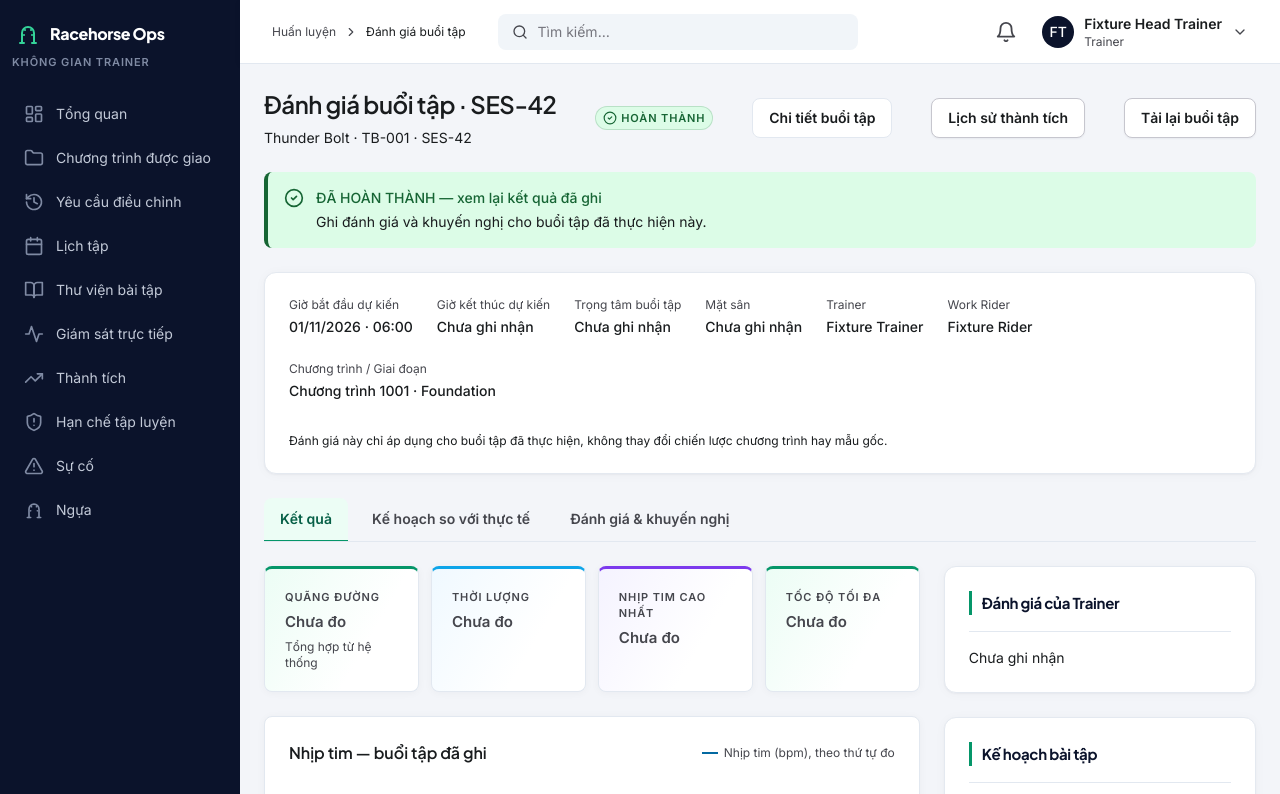
Scenario: dev + CORE-022 + CORE-033 + clean CORE-036 / production routes › restores TRAINER into /training/sessions/42/evaluation with the shared API base/session
Expected: the heading "Đánh giá buổi tập · SES-42" is shown, [264, 88, 556, 120]
Step 1. Click the tab "Đánh giá & khuyến nghị" → (650, 520), box [554, 498, 745, 542]
(page scrolled)
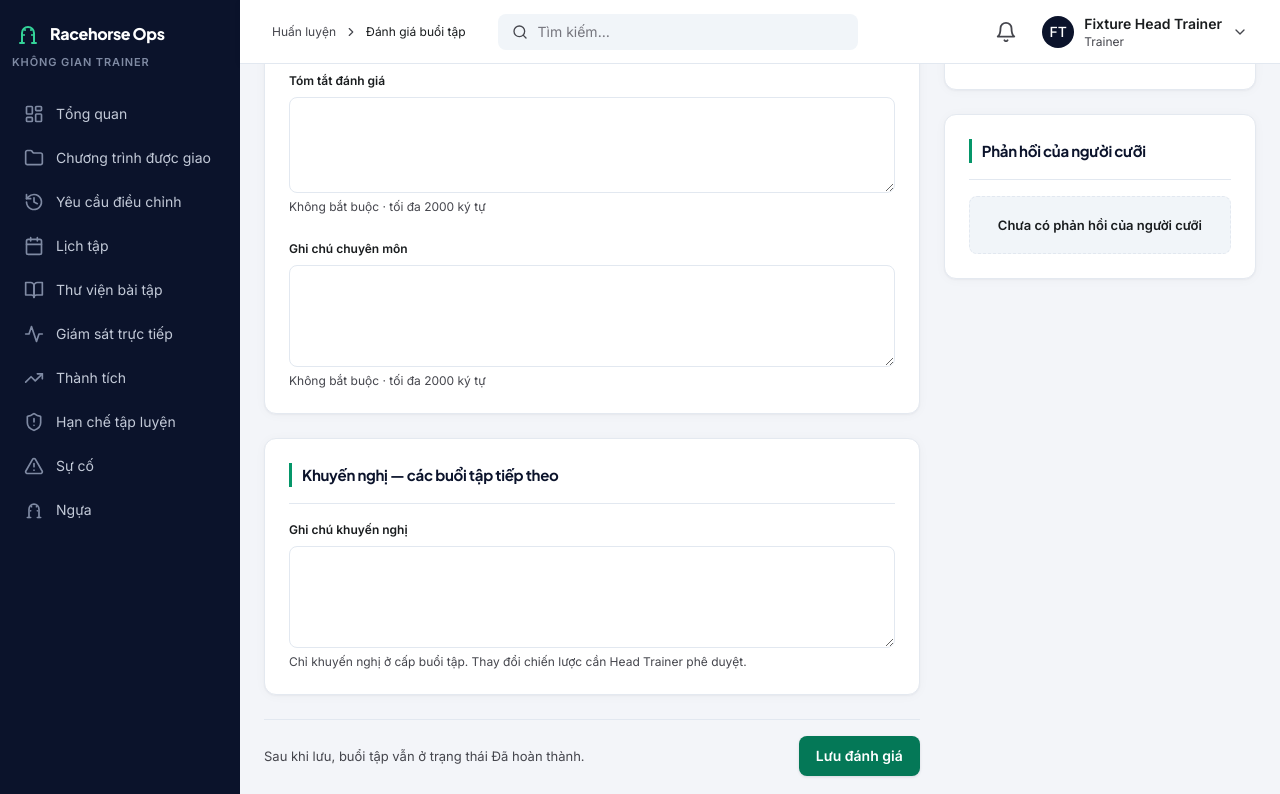
Now the button "Lưu đánh giá" is shown, box [799, 736, 920, 776]
